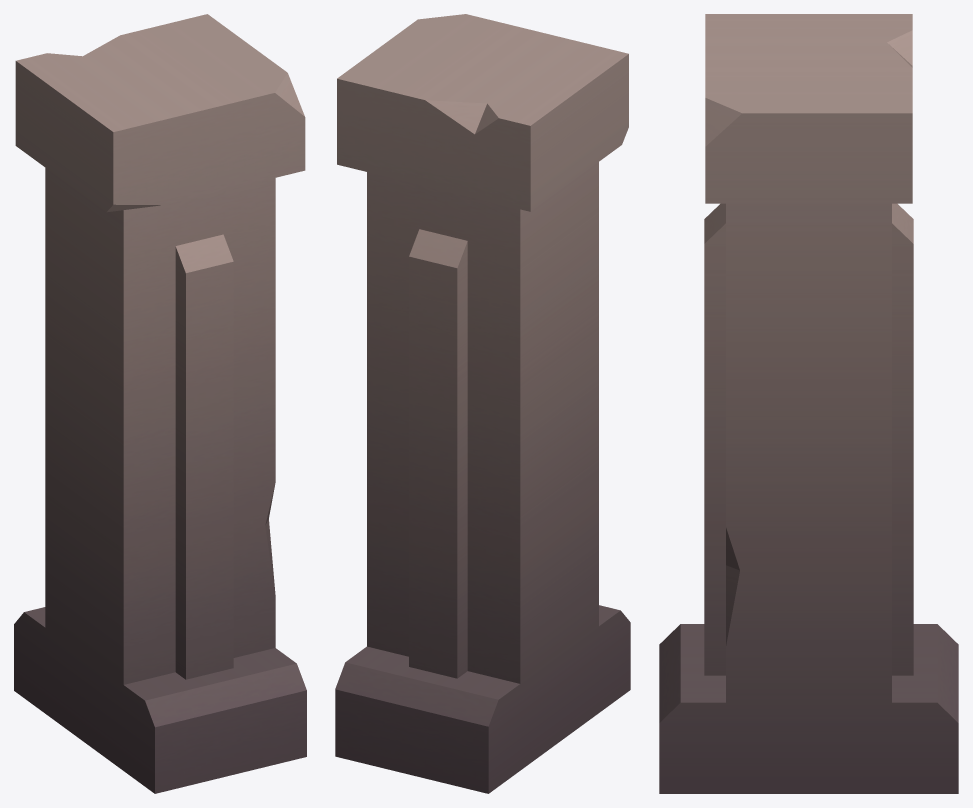
The model's file is fenceAPillar2.glb.
3 renders of one model, left to right at view 1: azimuth 30°, elevation 25°; view 2: azimuth 150°, elevation 25°; view 3: azimuth 270°, elevation 25°, orthographic. The views are drawn at different scales.
Parts seen in each view (by area): view 1: fenceAPillar2; view 2: fenceAPillar2; view 3: fenceAPillar2.
Boxes of the visible parts, left/top/right/bottom form: fenceAPillar2: left=14, top=14, right=306, bottom=793; fenceAPillar2: left=335, top=14, right=630, bottom=793; fenceAPillar2: left=659, top=14, right=958, bottom=793.
Bounding box in the file's own units: 0.6407 × 2.08 × 0.8154.
Materials: 1 (1 with a texture image).
